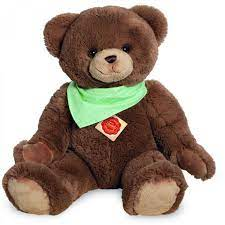teddy: (6, 4, 215, 217)
